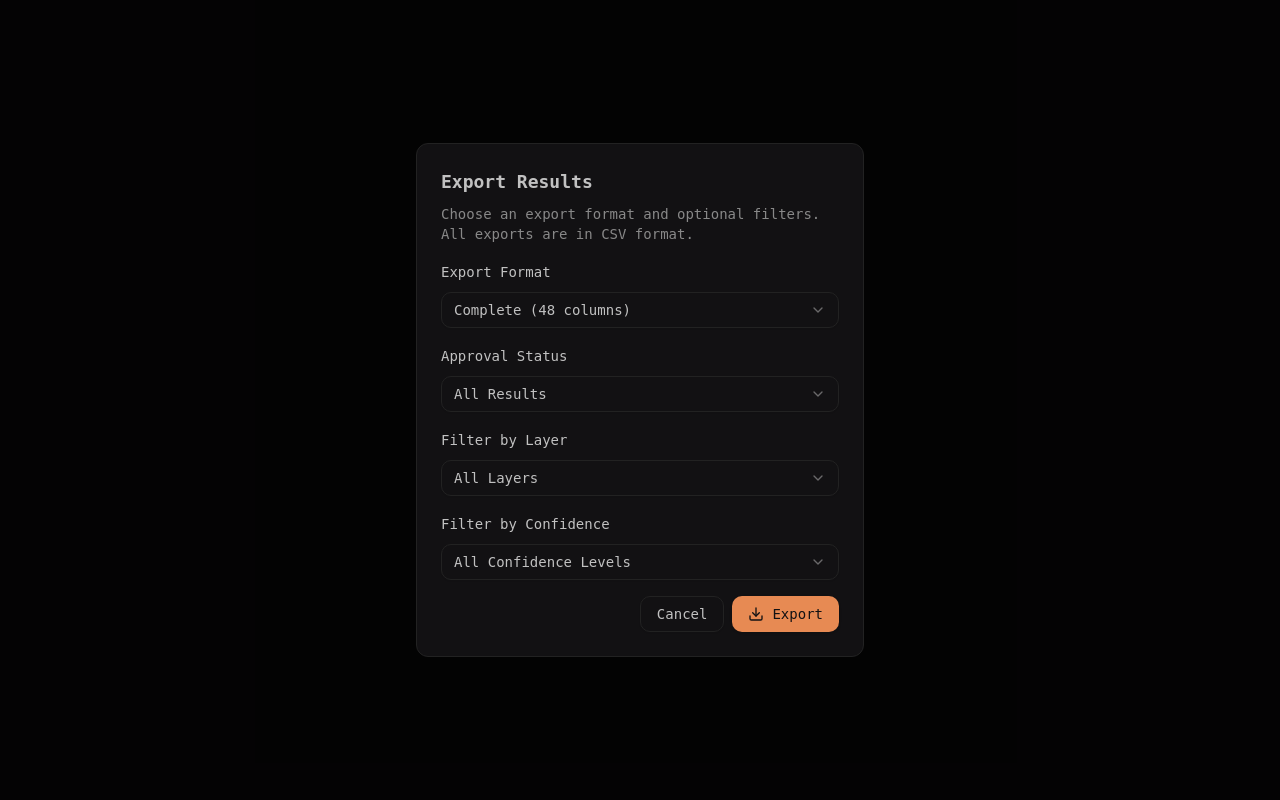
CSV Export Integration Tests › Error Handling Integration › should handle 404 error when job does not exist
What coordinates should you click on to do the following:
click the button "Export"
I would click on:
 (786, 614)
Its box is [732,596,839,632].
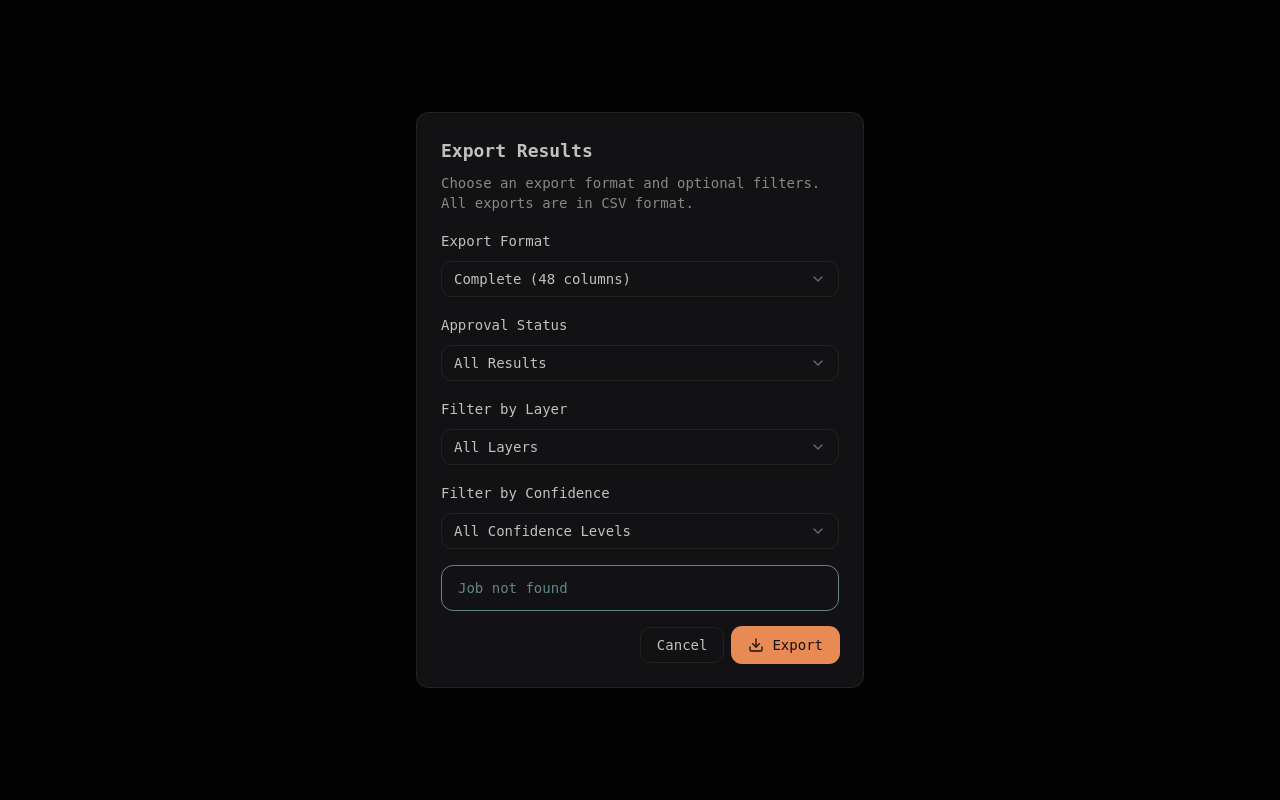
Result: the text "Job not found" is shown at [458,580,568,596]
